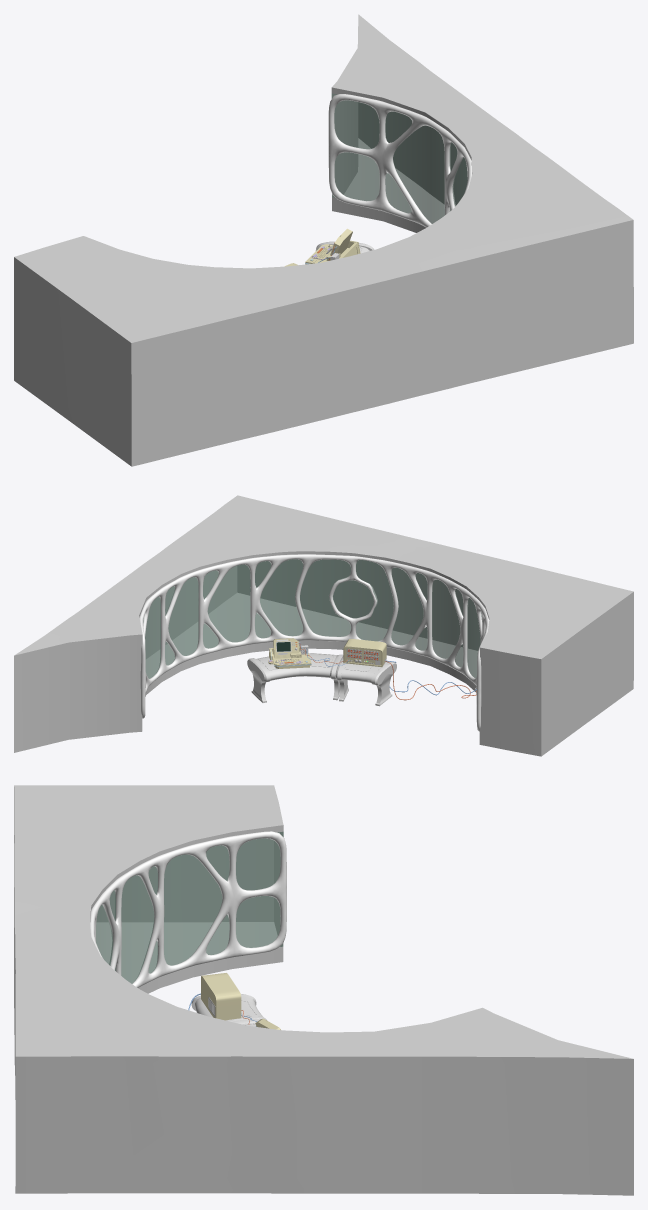
File: tableau de board final_aquarium.fbx
The picture shows the model from 3 angles, top to bottom: view 1: azimuth 30°, elevation 25°; view 2: azimuth 150°, elevation 25°; view 3: azimuth 270°, elevation 25°; orthographic projection. The views are drawn at different scales.
Visible parts, largest first — view 1: aquarium_fin, Grille 01, ordi_final; view 2: aquarium_fin, Grille 01, table, ordi_final, machine_electrocution; view 3: aquarium_fin, Grille 01, machine_electrocution, table.
Part boxes in pixels (x1,y1,x2,y2): aquarium_fin: (14,14,633,466); Grille 01: (328,94,471,227); ordi_final: (305,228,360,264); aquarium_fin: (14,495,633,756); Grille 01: (139,554,489,731); table: (247,653,396,706); ordi_final: (268,638,311,668); machine_electrocution: (343,639,386,667); aquarium_fin: (14,785,633,1195); Grille 01: (90,831,286,987); machine_electrocution: (201,973,241,1020); table: (191,994,266,1026).
Bounding box in the file's own units: 12.42 × 11.89 × 2.91.
